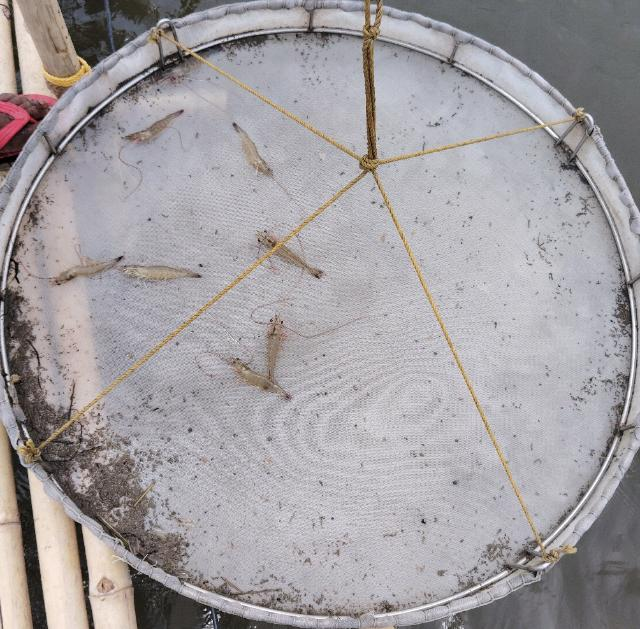shrimp: (258, 231, 323, 279), (228, 357, 291, 402), (233, 122, 272, 177), (54, 256, 123, 285), (124, 110, 184, 143), (267, 314, 284, 389), (122, 266, 201, 280)
